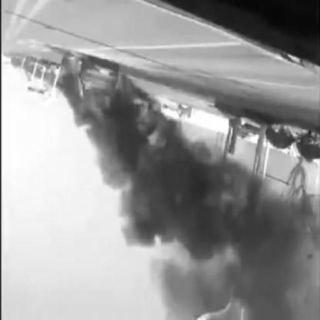Fire: (53, 50, 134, 114)
Smoke: (114, 188, 316, 320)
